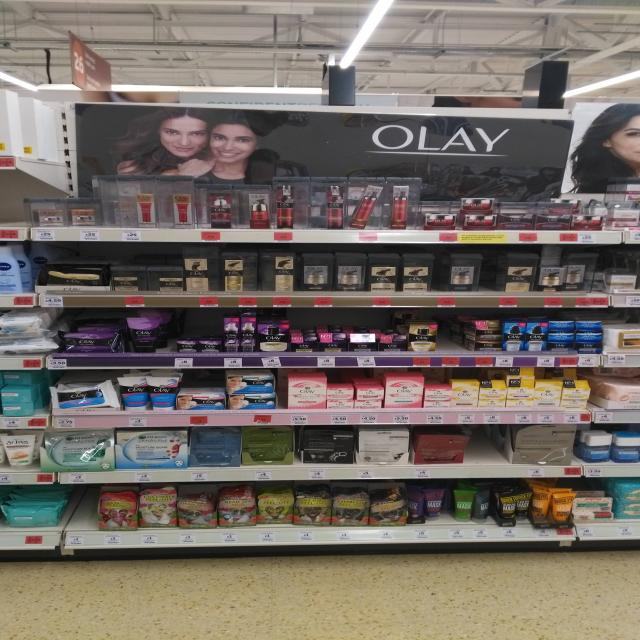void: (466, 426, 512, 464), (63, 485, 96, 534)
